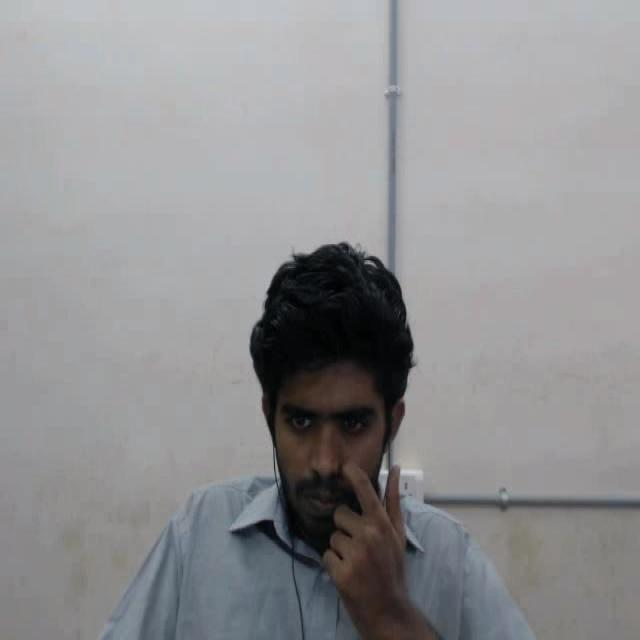Bored: (230, 209, 446, 603)
